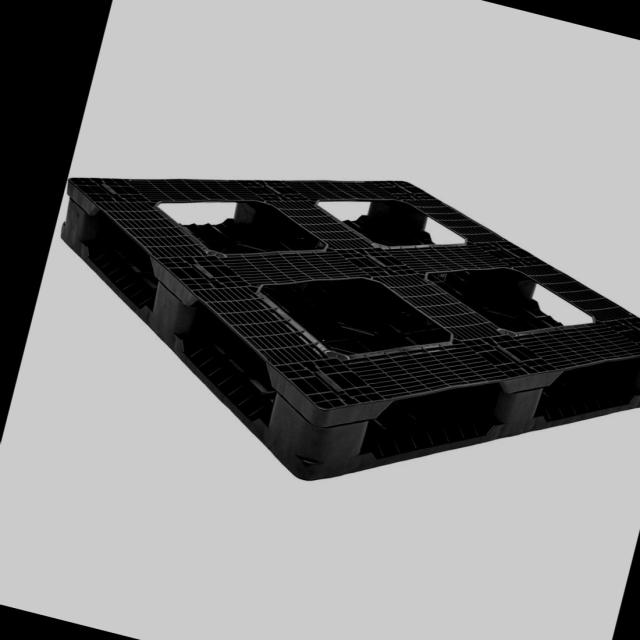non-igps: (57, 164, 640, 485)
